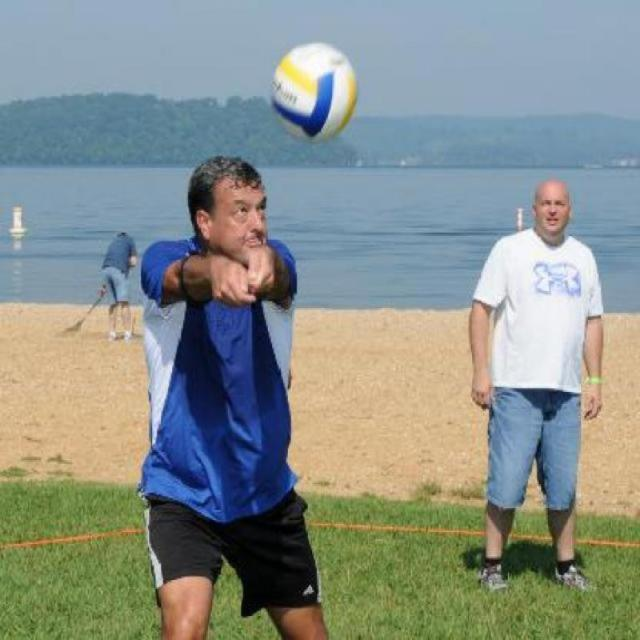volleyball: (269, 39, 360, 144)
